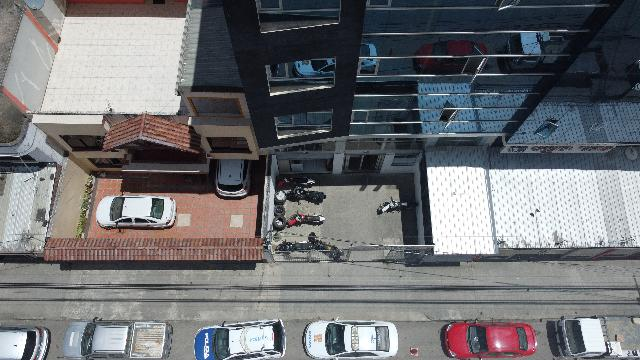Vehiculo: (63, 317, 173, 359), (547, 316, 639, 360), (302, 318, 398, 360), (440, 320, 538, 360), (194, 318, 286, 360), (96, 195, 176, 231), (0, 324, 50, 360), (214, 159, 252, 199)
